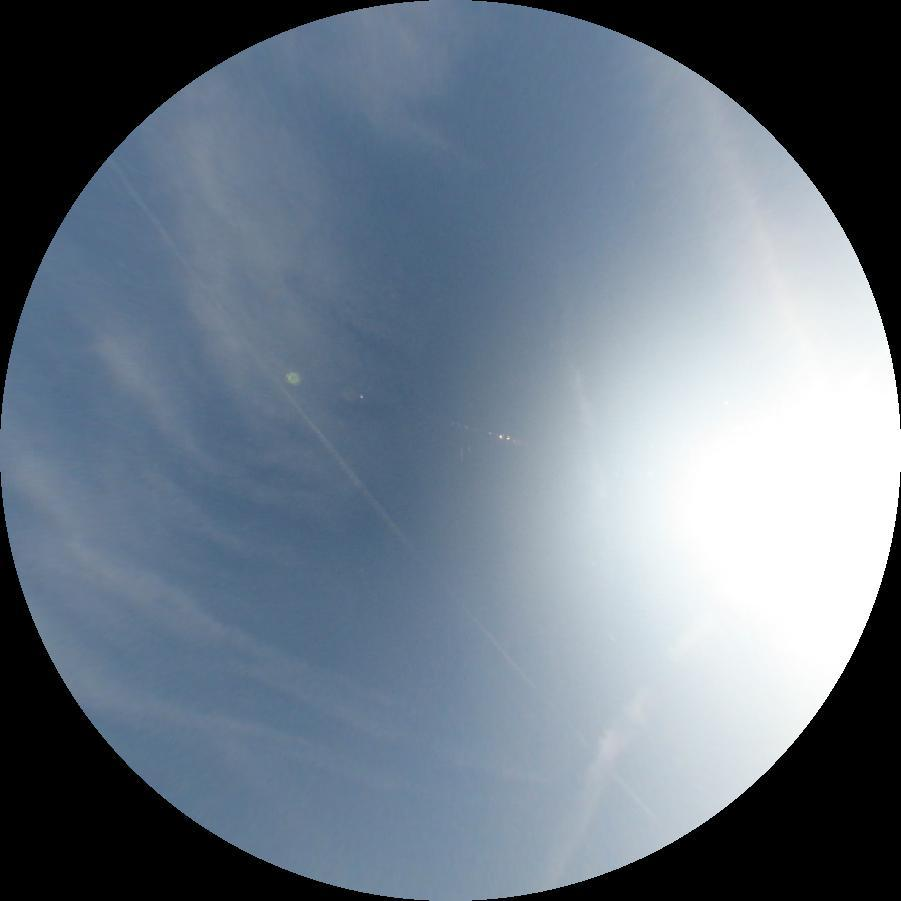contrail old: (97, 155, 668, 846)
contrail veryold: (48, 536, 575, 817), (640, 26, 789, 321), (528, 683, 658, 895)
sun: (663, 391, 899, 667)
